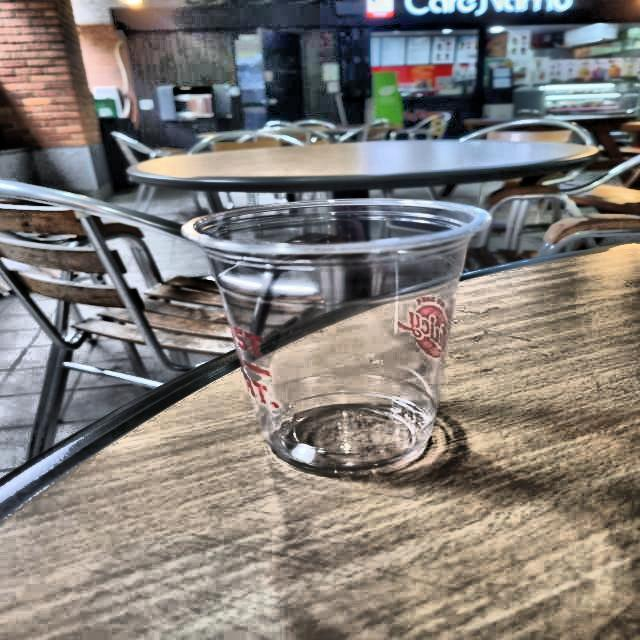plastic cup: (172, 189, 502, 486)
